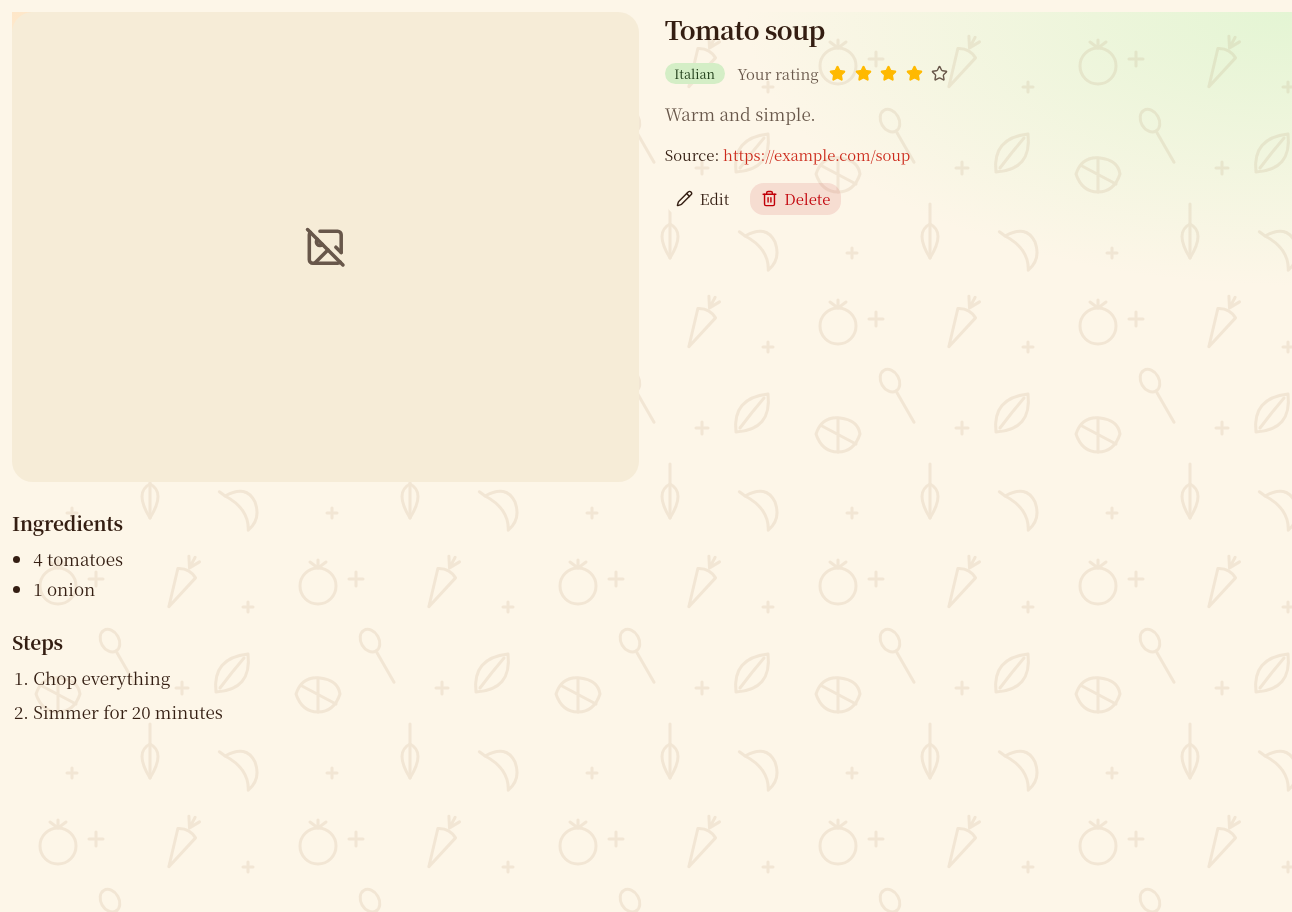
Test case: RecipeDetailPage › puts the old rating back and says so when saving fails
Click the button named "Rate 2 out of 5" at (863, 74), box [853,63,874,84]
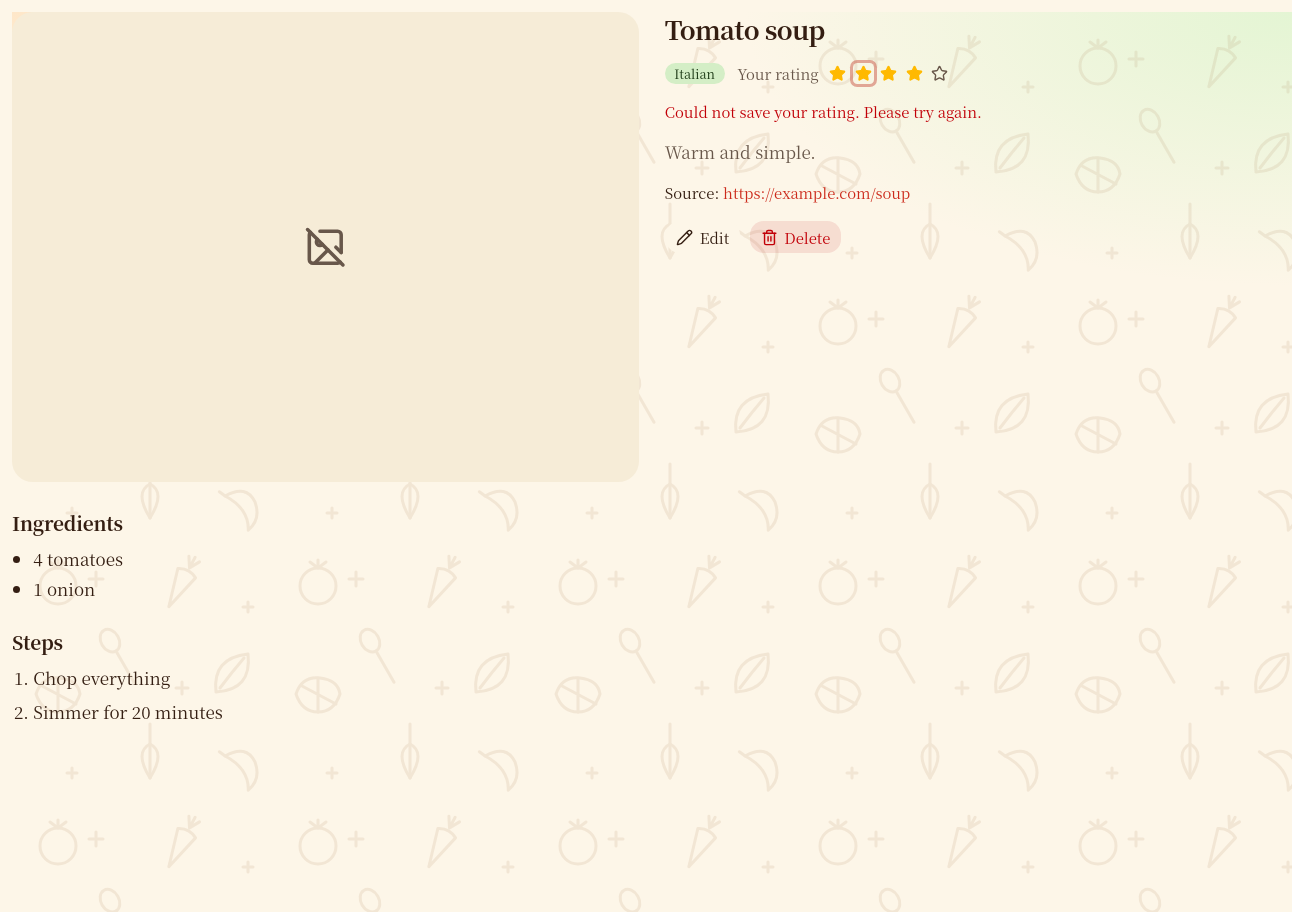
Check: the text "Could not save your rating. Please try again." is shown, box [665,101,982,122]
